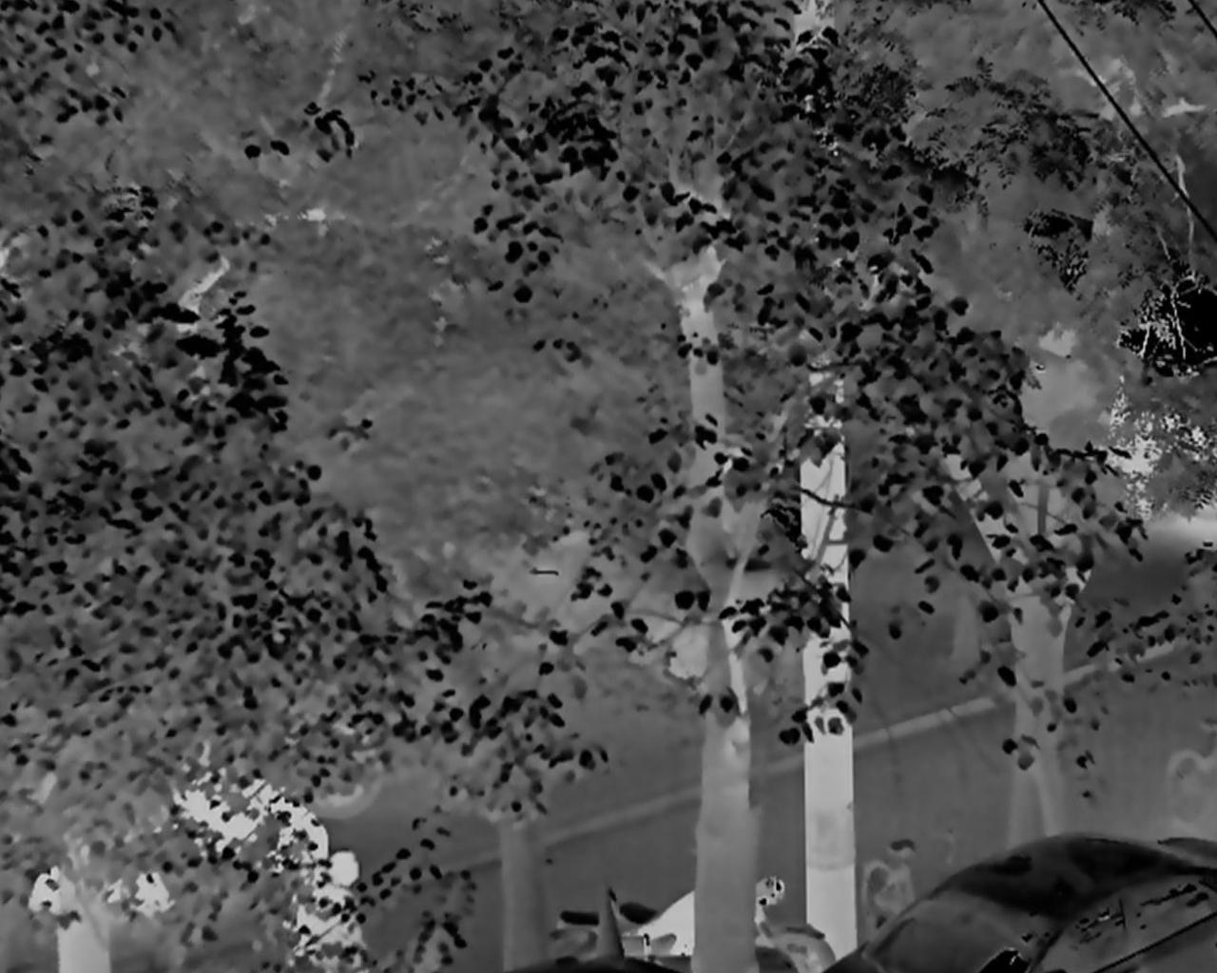person: (301, 853, 359, 971), (273, 794, 326, 907)
